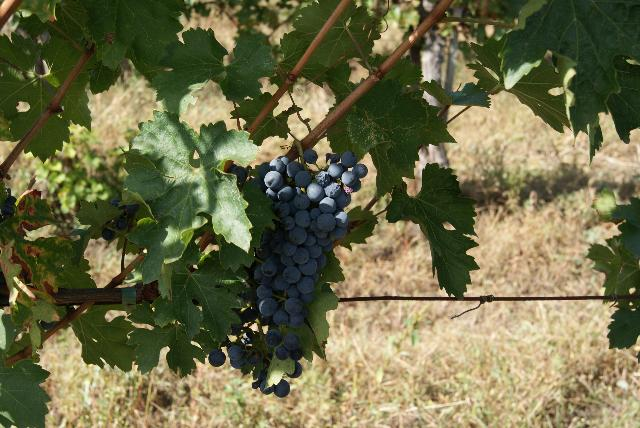grapes: (209, 151, 368, 376)
